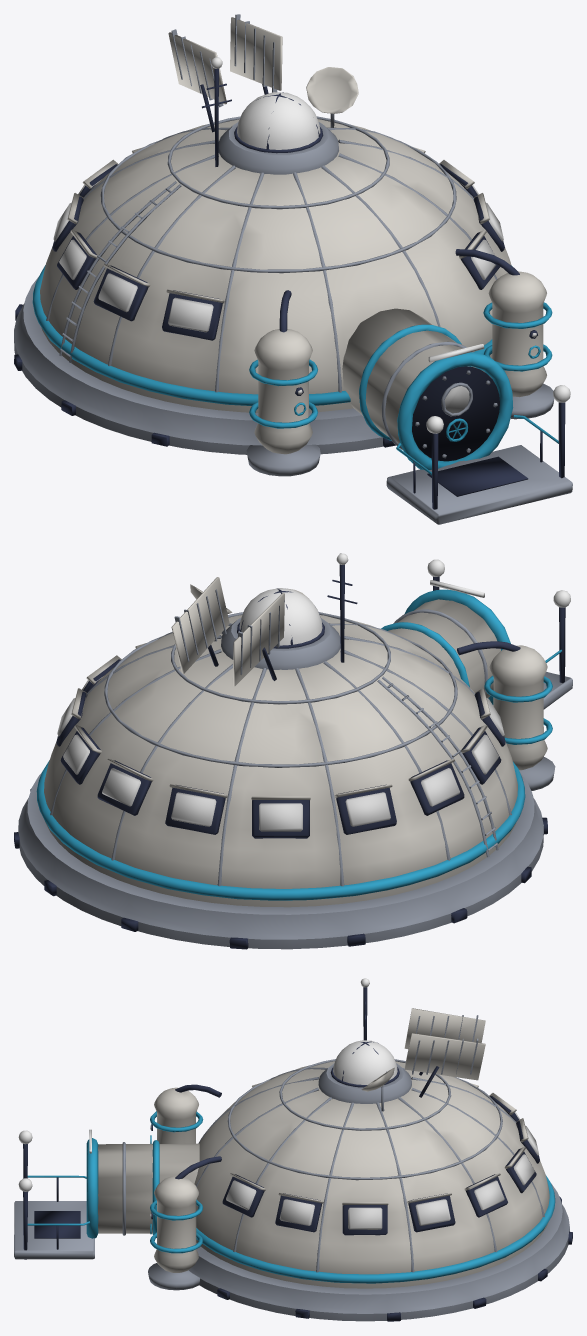
Rendered from hab_low.glb.
3 renders of one model, top to bottom at view 1: azimuth 30°, elevation 25°; view 2: azimuth 150°, elevation 25°; view 3: azimuth 270°, elevation 25°, orthographic. The views are drawn at different scales.
Visible parts, largest first — view 1: hab; view 2: hab; view 3: hab.
Part boxes in pixels (<box>): hab: <box>14,14,572,524</box>; hab: <box>14,553,572,949</box>; hab: <box>14,978,572,1321</box>.
Bounding box in the file's own units: 14.24 × 8.86 × 19.25.
